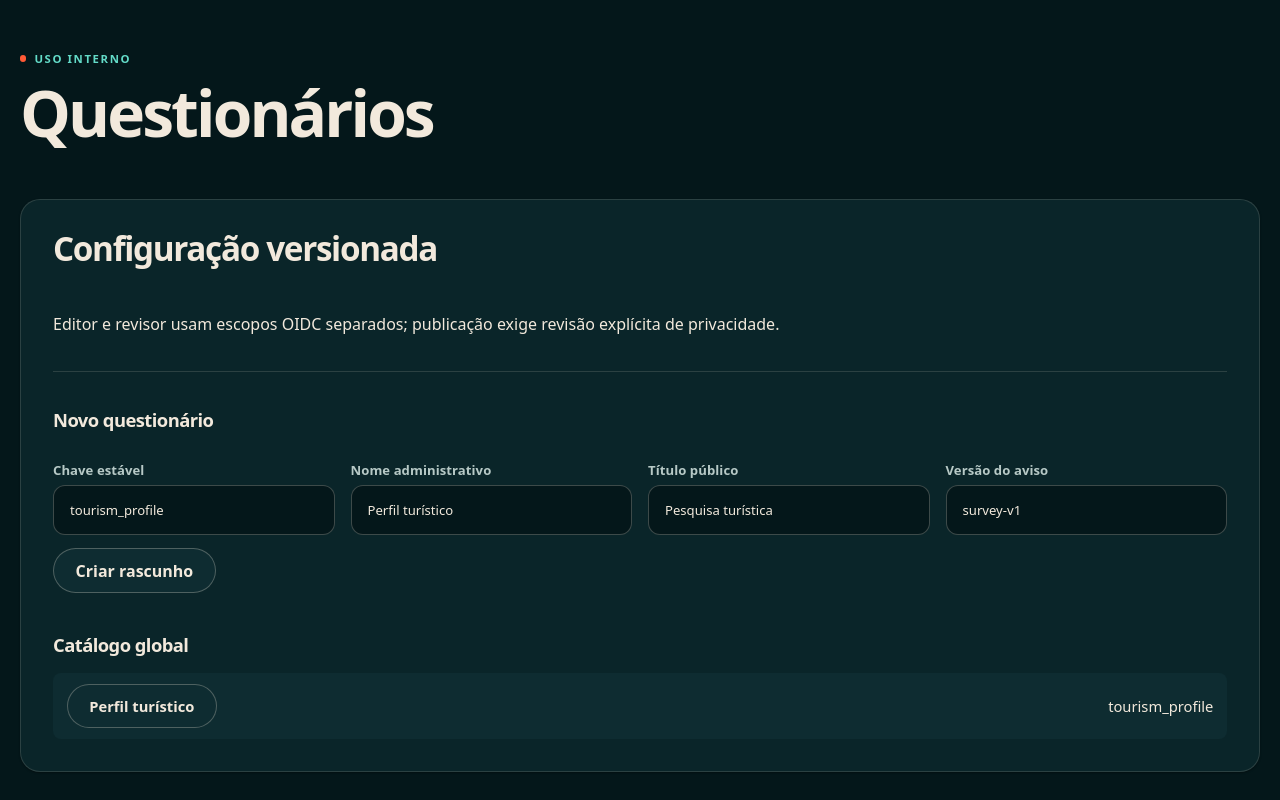
administração de questionários › encerra a paginação quando o cursor retornado está vazio
What coordinates should you click on to do the following:
click the button "Perfil turístico"
I would click on:
 (142, 706)
Its box is left=67, top=684, right=217, bottom=728.
(page scrolled)
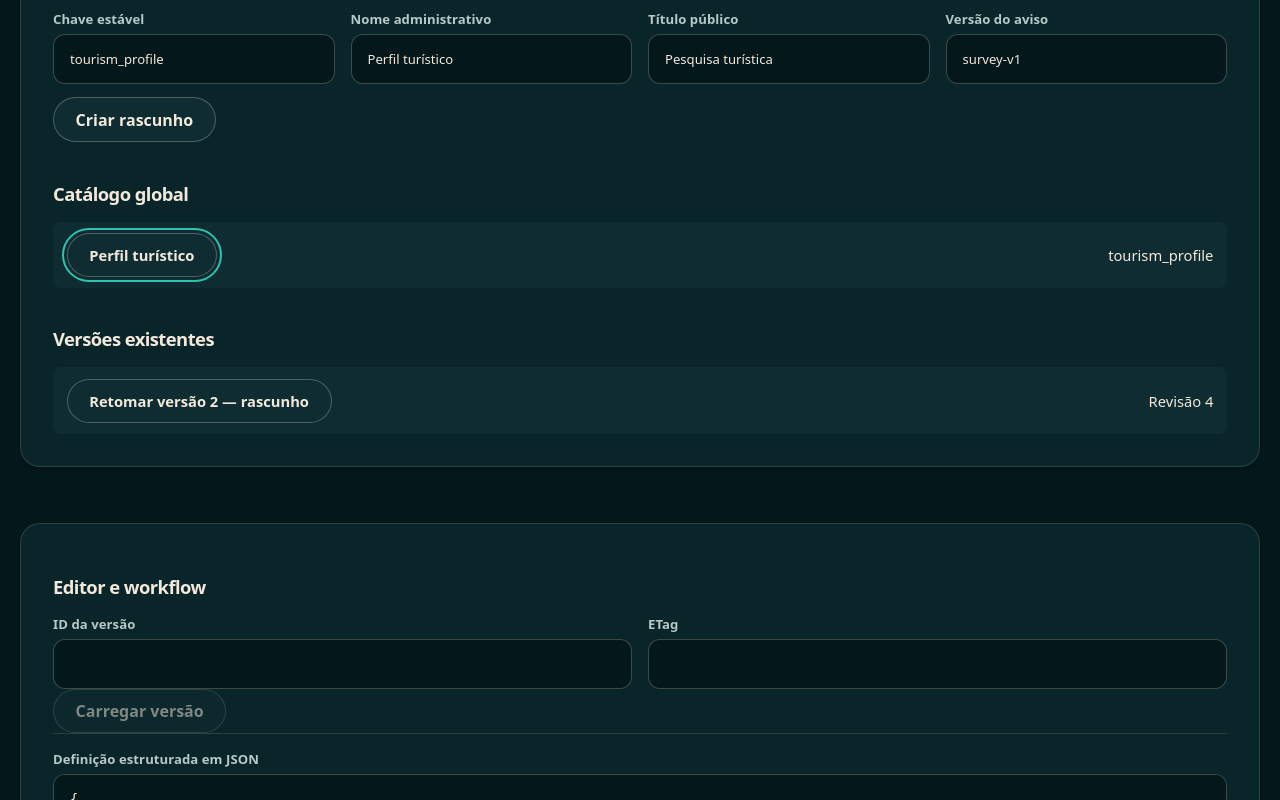
Expected: the button "Retomar versão 2 — rascunho" is shown, left=67, top=378, right=332, bottom=422
